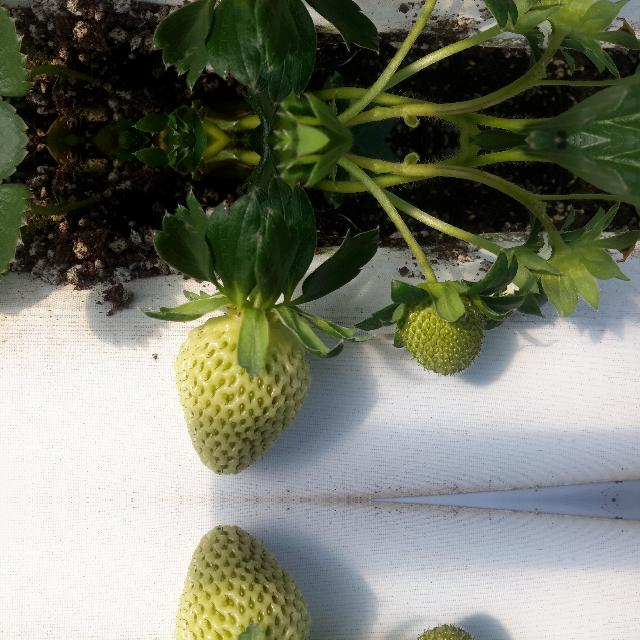Health_25: (174, 314, 310, 474), (174, 526, 310, 640), (400, 290, 488, 380), (400, 619, 488, 640)
